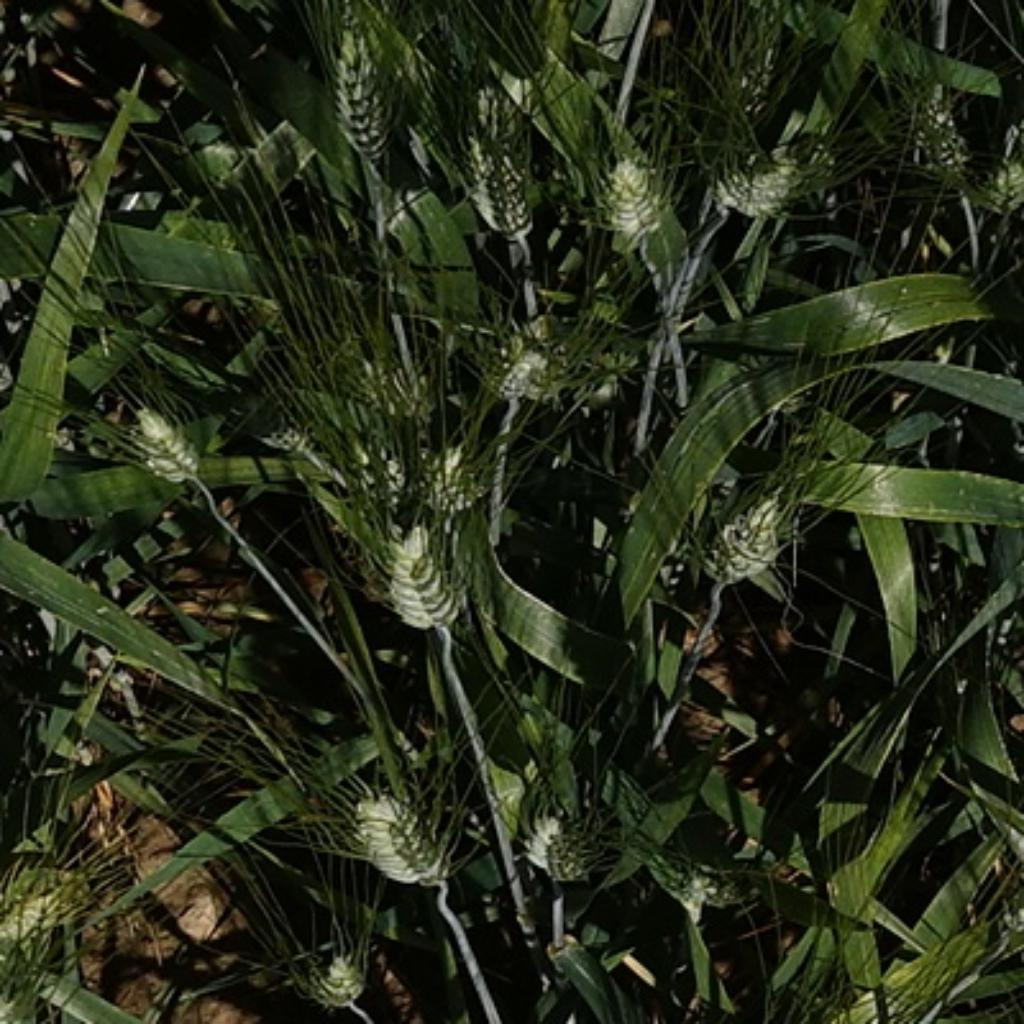0-0: (471, 284, 634, 419), (309, 2, 442, 156), (680, 453, 808, 588), (442, 74, 550, 225), (340, 770, 463, 885), (363, 519, 473, 647), (588, 130, 688, 258), (710, 142, 821, 218), (519, 791, 614, 878), (125, 403, 212, 493), (286, 934, 381, 1016), (334, 413, 406, 505), (2, 862, 66, 954), (430, 440, 496, 520), (355, 364, 428, 425), (965, 138, 1024, 209), (734, 38, 785, 120), (925, 112, 978, 187), (243, 398, 312, 452), (680, 869, 724, 911)
